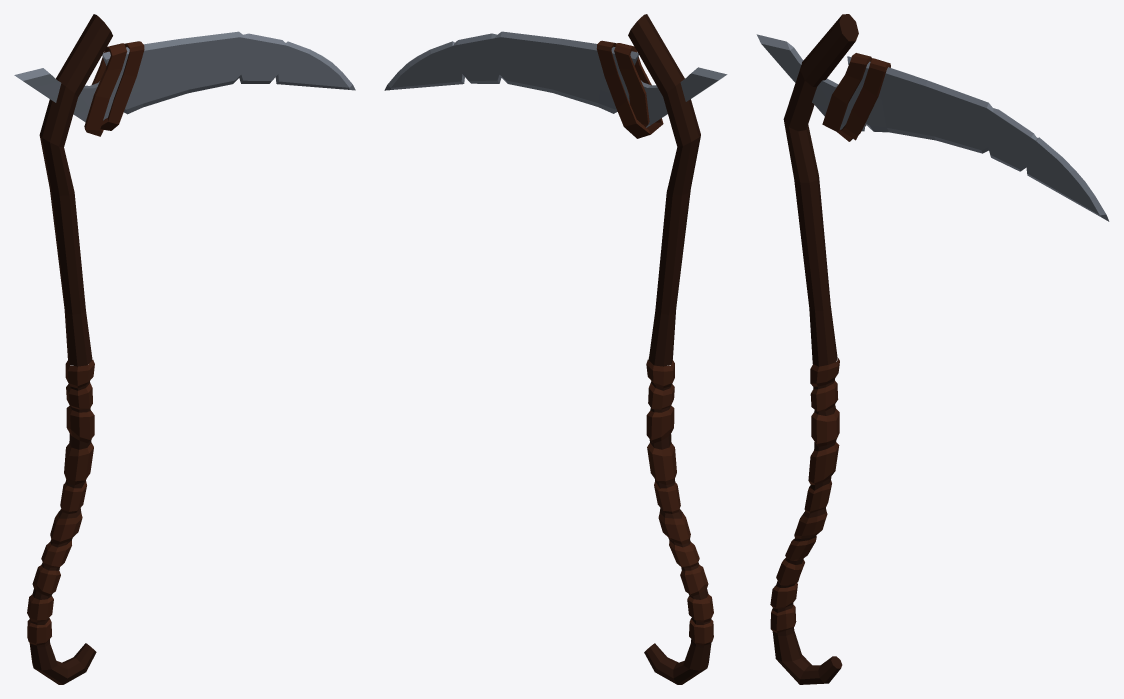
File: Scythe.glb
The picture shows the model from 3 angles, left to right: view 1: azimuth 30°, elevation 25°; view 2: azimuth 150°, elevation 25°; view 3: azimuth 330°, elevation 25°; orthographic projection. The views are drawn at different scales.
Visible parts, largest first — view 1: Scythe; view 2: Scythe; view 3: Scythe.
Part boxes in pixels (bbox=[...]): Scythe: bbox=[14, 14, 355, 684]; Scythe: bbox=[384, 14, 727, 684]; Scythe: bbox=[756, 14, 1109, 684].
Bounding box in the file's own units: 0.5426 × 1 × 0.0496.
